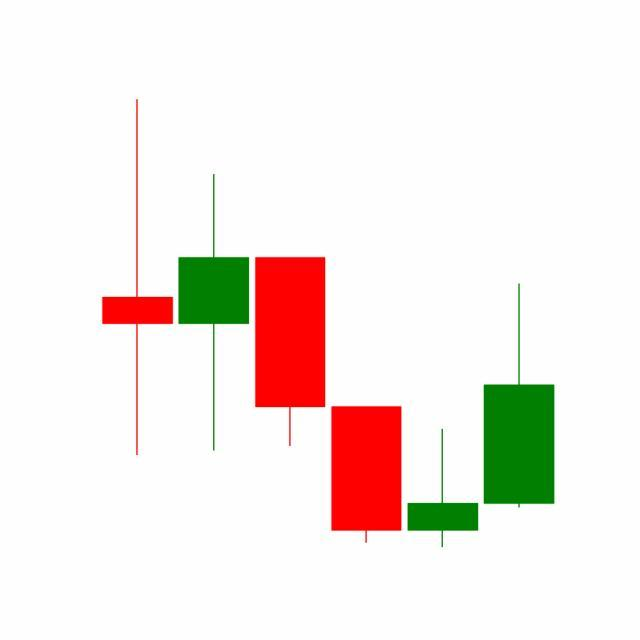Gravestone Doji: (404, 428, 482, 550)
